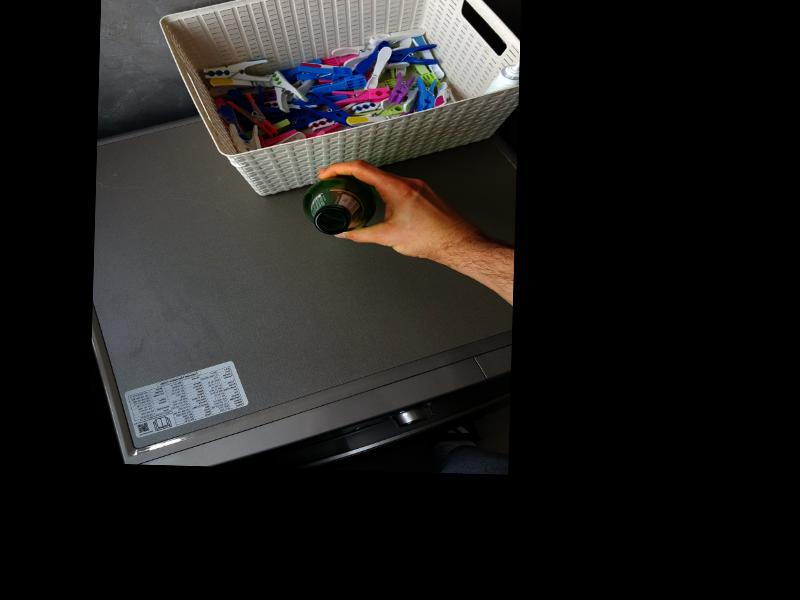Beer: (301, 174, 378, 237)
